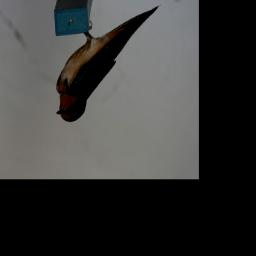Swallow: (53, 3, 161, 125)
